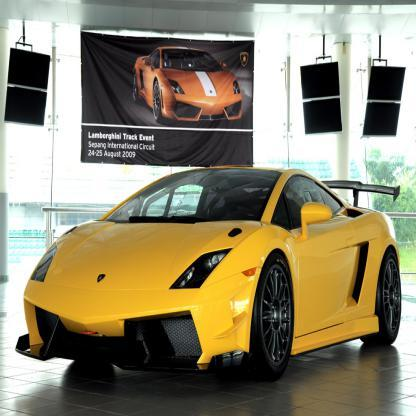car: (13, 161, 402, 378), (129, 46, 240, 124)
